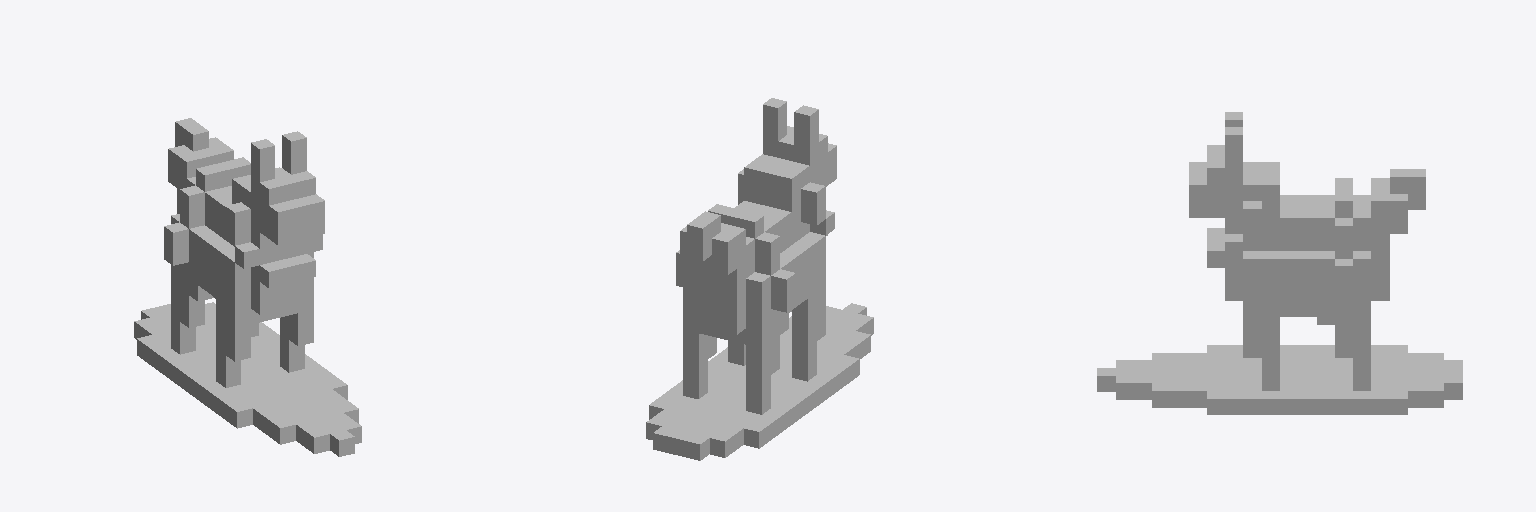
The model's file is Beach_llama.obj.
3 views of the same model, side by side, from view 1: azimuth 30°, elevation 25°; view 2: azimuth 150°, elevation 25°; view 3: azimuth 270°, elevation 25° (orthographic).
Bounding box in the file's own units: 7 × 16 × 20.